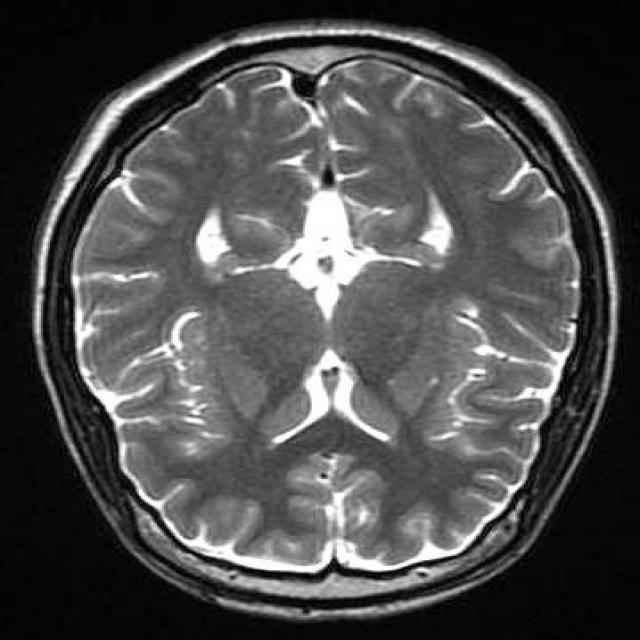notumor: (32, 20, 620, 620)
